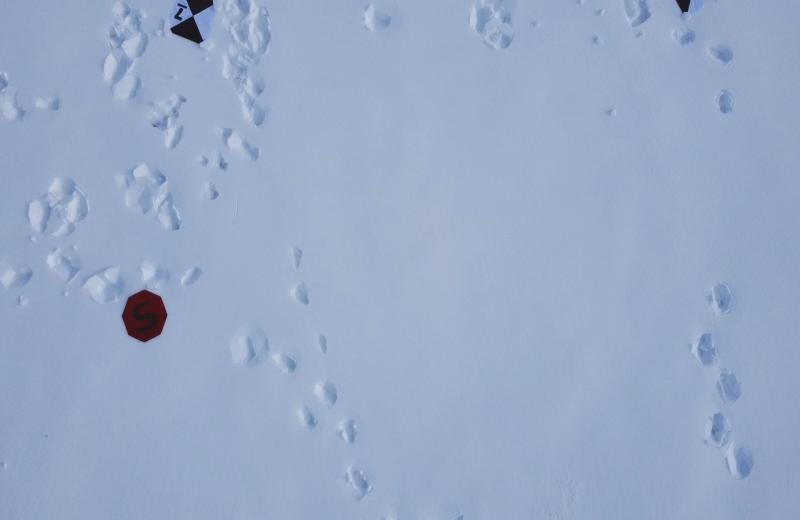Octagon: (120, 290, 170, 342)
